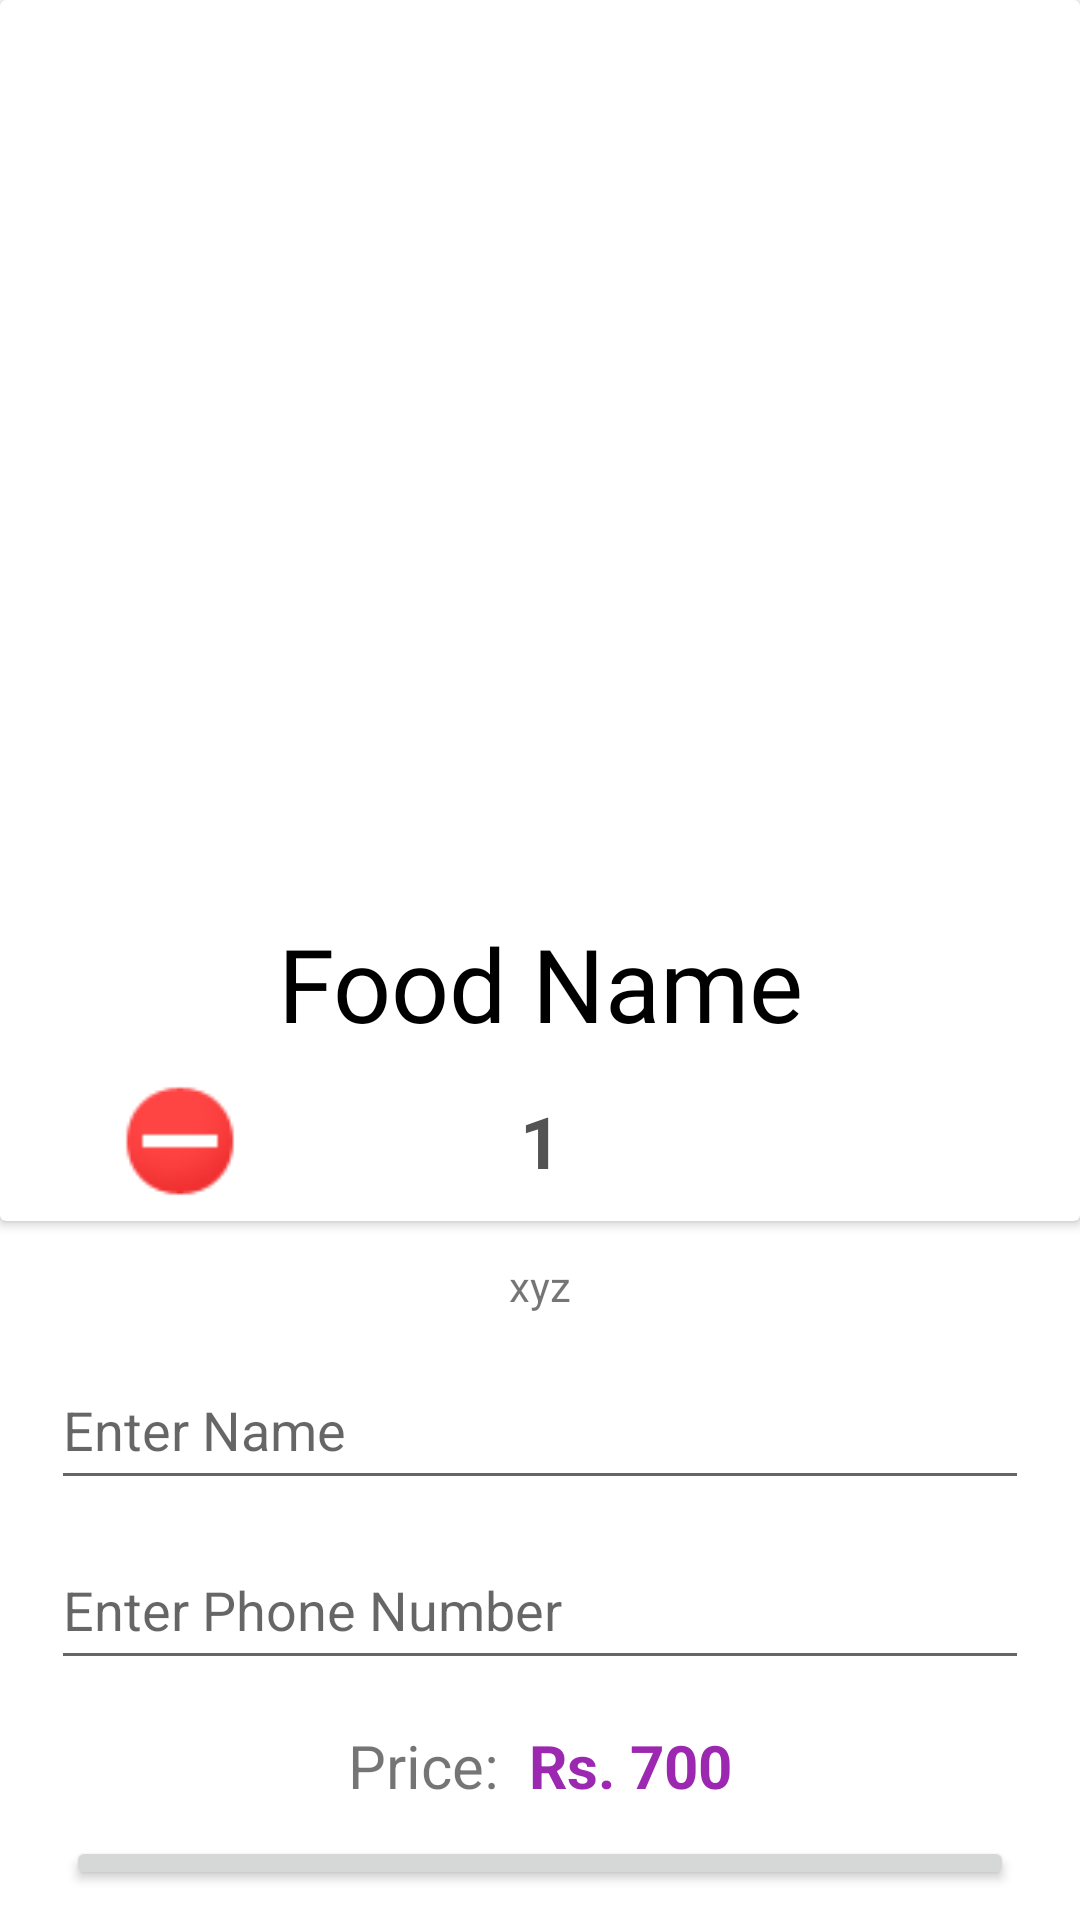

Point at icon controls on the screen. Image size 1080*1920, points as (x,y).
presence busy: (180,1141)
